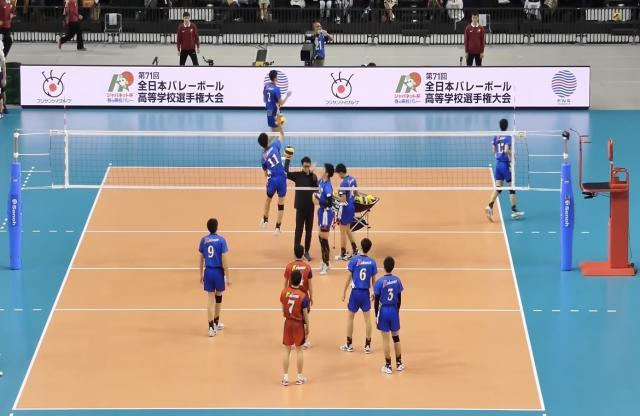spike: (254, 106, 290, 237)
